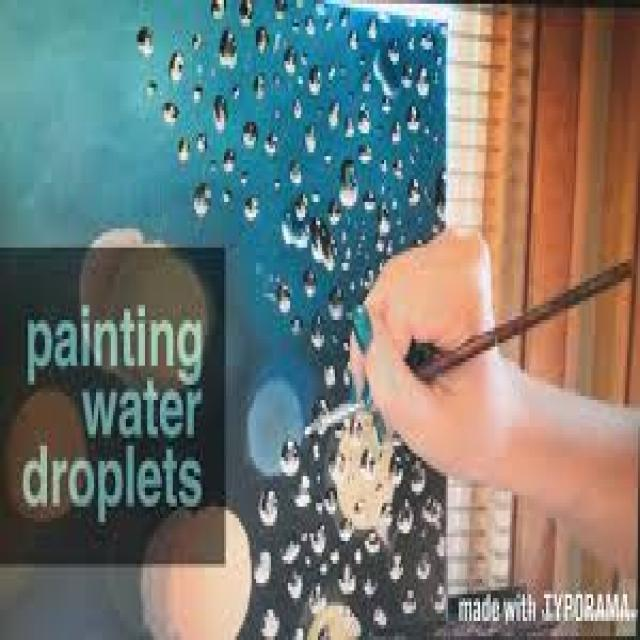raindrop: (273, 178, 313, 268), (307, 202, 348, 282), (328, 146, 364, 217), (210, 16, 245, 84), (250, 468, 286, 534), (206, 86, 238, 148), (274, 426, 305, 486), (322, 275, 352, 334), (132, 15, 166, 67), (190, 176, 220, 234), (331, 498, 363, 552), (306, 511, 336, 565), (307, 385, 333, 447), (390, 494, 420, 546), (270, 268, 298, 323), (246, 544, 278, 591), (274, 524, 304, 572), (288, 469, 318, 516), (238, 184, 270, 228), (305, 308, 331, 362), (406, 52, 432, 106), (164, 29, 188, 87), (236, 111, 262, 161), (248, 64, 274, 114), (334, 557, 362, 602), (404, 94, 429, 142), (274, 35, 298, 83), (305, 54, 328, 104), (282, 562, 308, 606), (260, 119, 286, 163), (358, 522, 386, 562), (257, 601, 283, 640), (300, 116, 326, 154), (320, 482, 343, 518)
